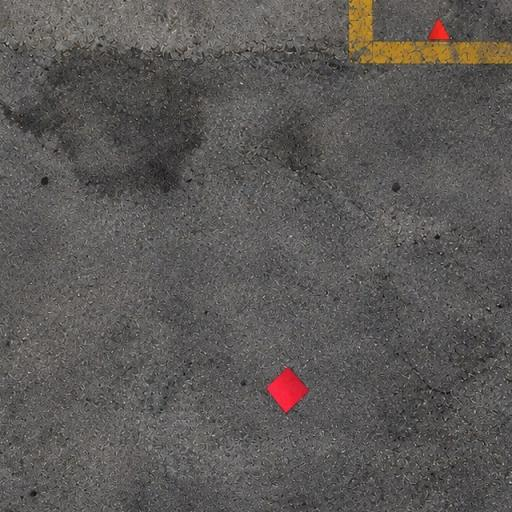RED_SQUARE: (265, 366, 310, 414)
